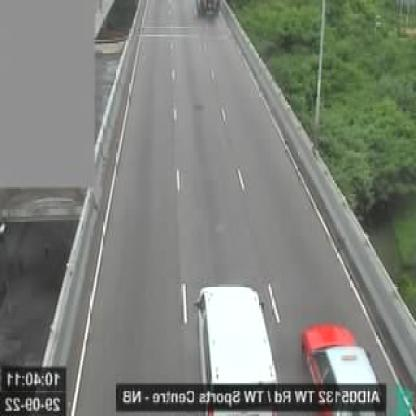Car: (198, 265, 290, 414), (298, 322, 395, 413), (190, 0, 234, 21)
